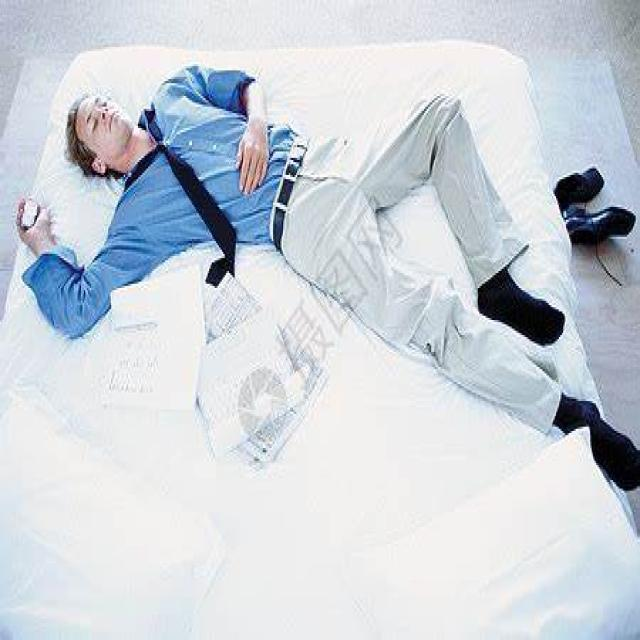lie: (57, 71, 640, 491)
